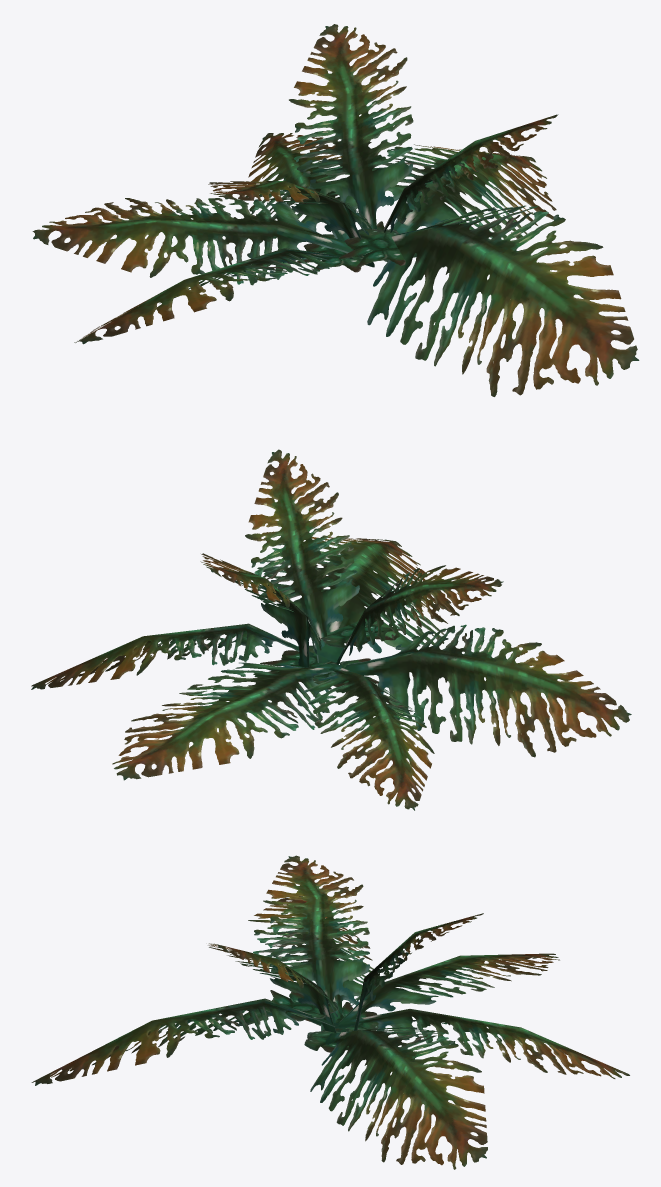
File: stemple_fern_blank_06.fbx
3 renders of one model, top to bottom at view 1: azimuth 30°, elevation 25°; view 2: azimuth 150°, elevation 25°; view 3: azimuth 270°, elevation 25°, orthographic. The views are drawn at different scales.
Visible parts, largest first — view 1: sunken_tileset/sunken_plants01_mat; view 2: sunken_tileset/sunken_plants01_mat; view 3: sunken_tileset/sunken_plants01_mat.
Part boxes in pixels (x1,y1,x2,y2): sunken_tileset/sunken_plants01_mat: (32,24,639,396); sunken_tileset/sunken_plants01_mat: (31,449,631,810); sunken_tileset/sunken_plants01_mat: (31,855,629,1169).
Size of the model in its own units: 3.38 by 1.18 by 3.52.
